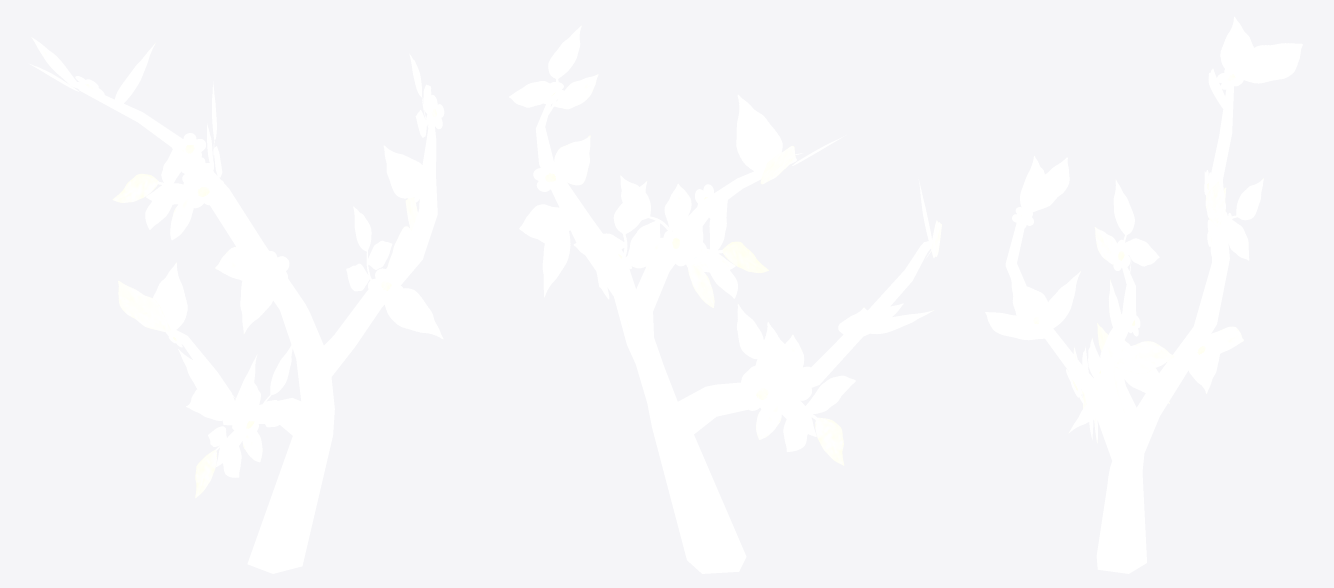
3 views of the same model, side by side, from view 1: azimuth 30°, elevation 25°; view 2: azimuth 150°, elevation 25°; view 3: azimuth 270°, elevation 25° (orthographic). The views are drawn at different scales.
Parts seen in each view (by area): view 1: SM_Berry_Bush_01v3_LOD0; view 2: SM_Berry_Bush_01v3_LOD0; view 3: SM_Berry_Bush_01v3_LOD0.
Part boxes in pixels (left/top/right/bottom): SM_Berry_Bush_01v3_LOD0: left=30, top=37, right=444, bottom=573; SM_Berry_Bush_01v3_LOD0: left=509, top=25, right=941, bottom=573; SM_Berry_Bush_01v3_LOD0: left=985, top=16, right=1302, bottom=573.
Size of the model in its own units: 0.8689 by 1.09 by 0.7316.
Materials: 1 (1 with a texture image).
